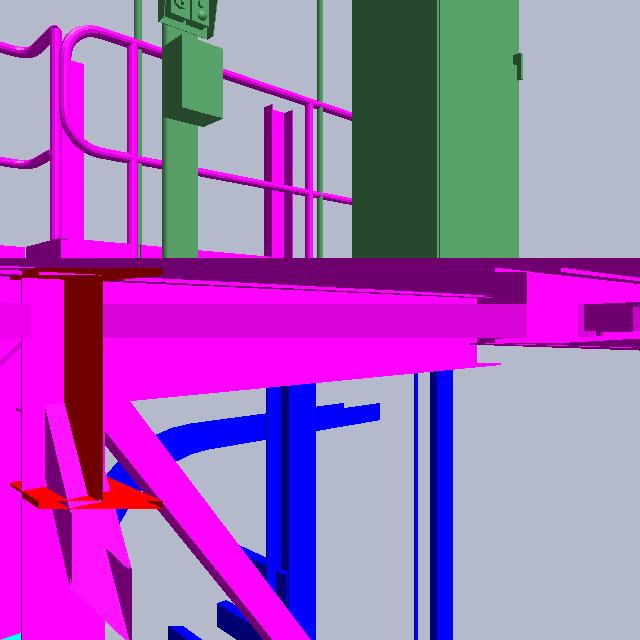Poste: (311, 1, 336, 266)
Soporte: (255, 95, 303, 289)
